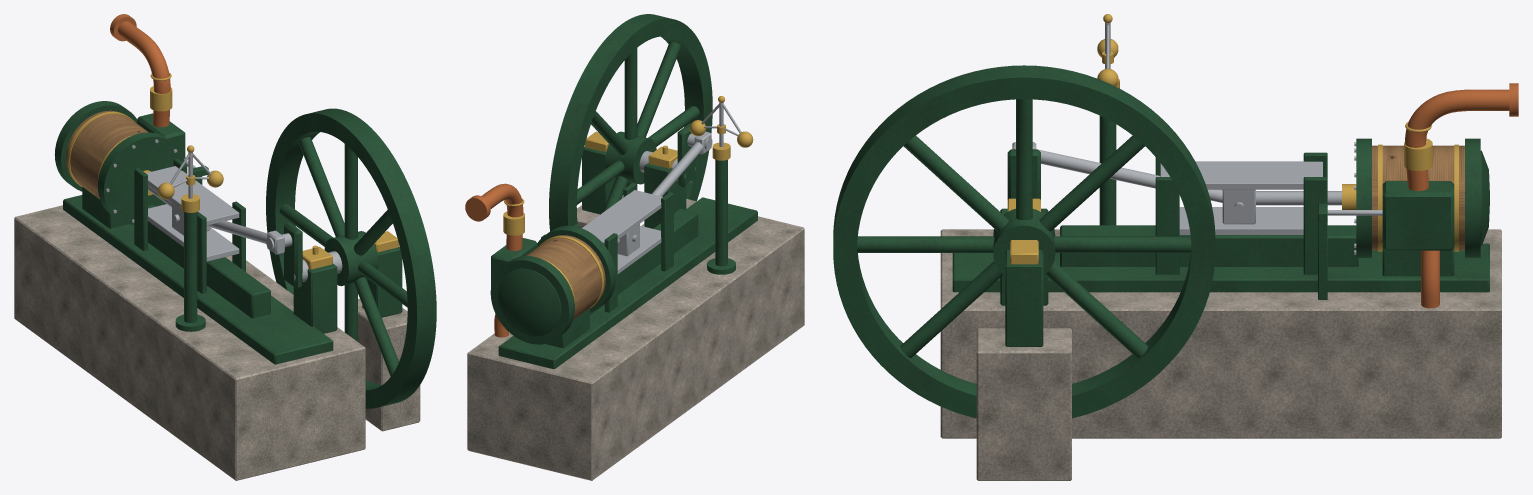
The model's file is mill-steam-engine.glb.
3 views of the same model, side by side, from view 1: azimuth 30°, elevation 25°; view 2: azimuth 150°, elevation 25°; view 3: azimuth 270°, elevation 25° (orthographic). The views are drawn at different scales.
Parts seen in each view (by area): view 1: Mill_Steam_Engine, Flywheel, Governor; view 2: Mill_Steam_Engine, Flywheel, Governor; view 3: Mill_Steam_Engine, Flywheel, Governor.
Boxes of the visible parts, <box> form: Mill_Steam_Engine: <box>14,14,420,480</box>; Flywheel: <box>266,108,436,408</box>; Governor: <box>157,145,223,199</box>; Mill_Steam_Engine: <box>465,131,804,480</box>; Flywheel: <box>549,14,712,231</box>; Governor: <box>690,96,753,147</box>; Mill_Steam_Engine: <box>940,78,1518,480</box>; Flywheel: <box>833,65,1215,418</box>; Governor: <box>1097,14,1118,86</box>.
Size of the model in its own units: 1.28 by 1.75 by 2.87.
6 materials, 3 textured.
